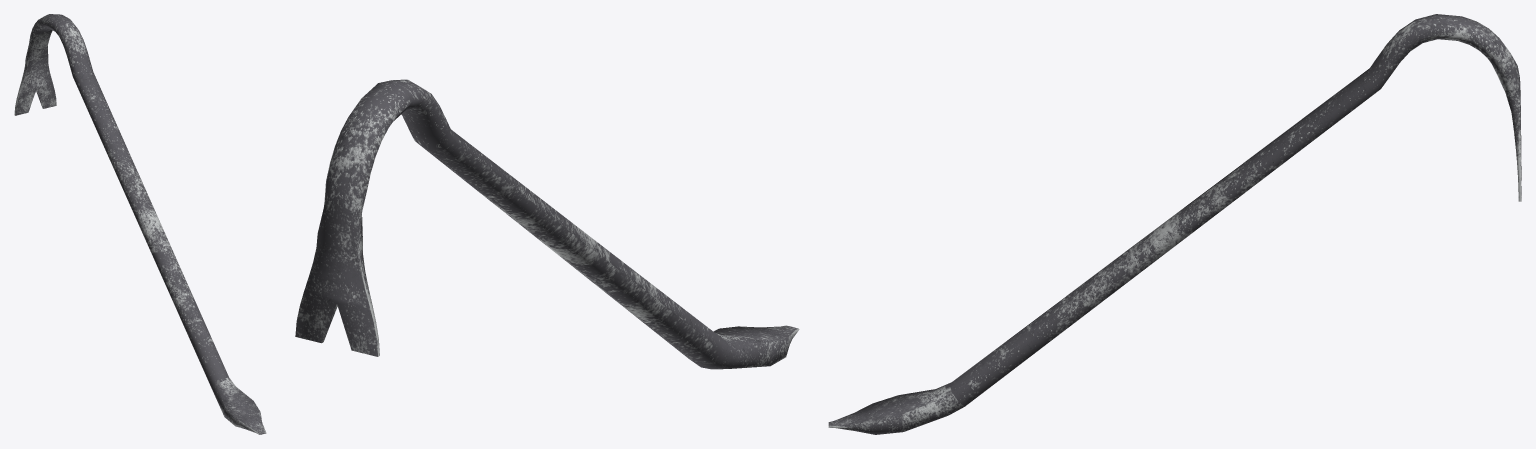
Rendered from Pe_de_Cabra.FBX.
3 views of the same model, side by side, from view 1: azimuth 30°, elevation 25°; view 2: azimuth 150°, elevation 25°; view 3: azimuth 270°, elevation 25° (orthographic). The views are drawn at different scales.
Parts seen in each view (by area): view 1: Pe_de_Cabra; view 2: Pe_de_Cabra; view 3: Pe_de_Cabra.
Boxes of the visible parts, x1,y1,x2,y2 form: Pe_de_Cabra: (14,14,266,434); Pe_de_Cabra: (295,79,799,369); Pe_de_Cabra: (828,14,1521,434).
Bounding box in the file's own units: 191 × 1191 × 1827.
1 material, 1 textured.
